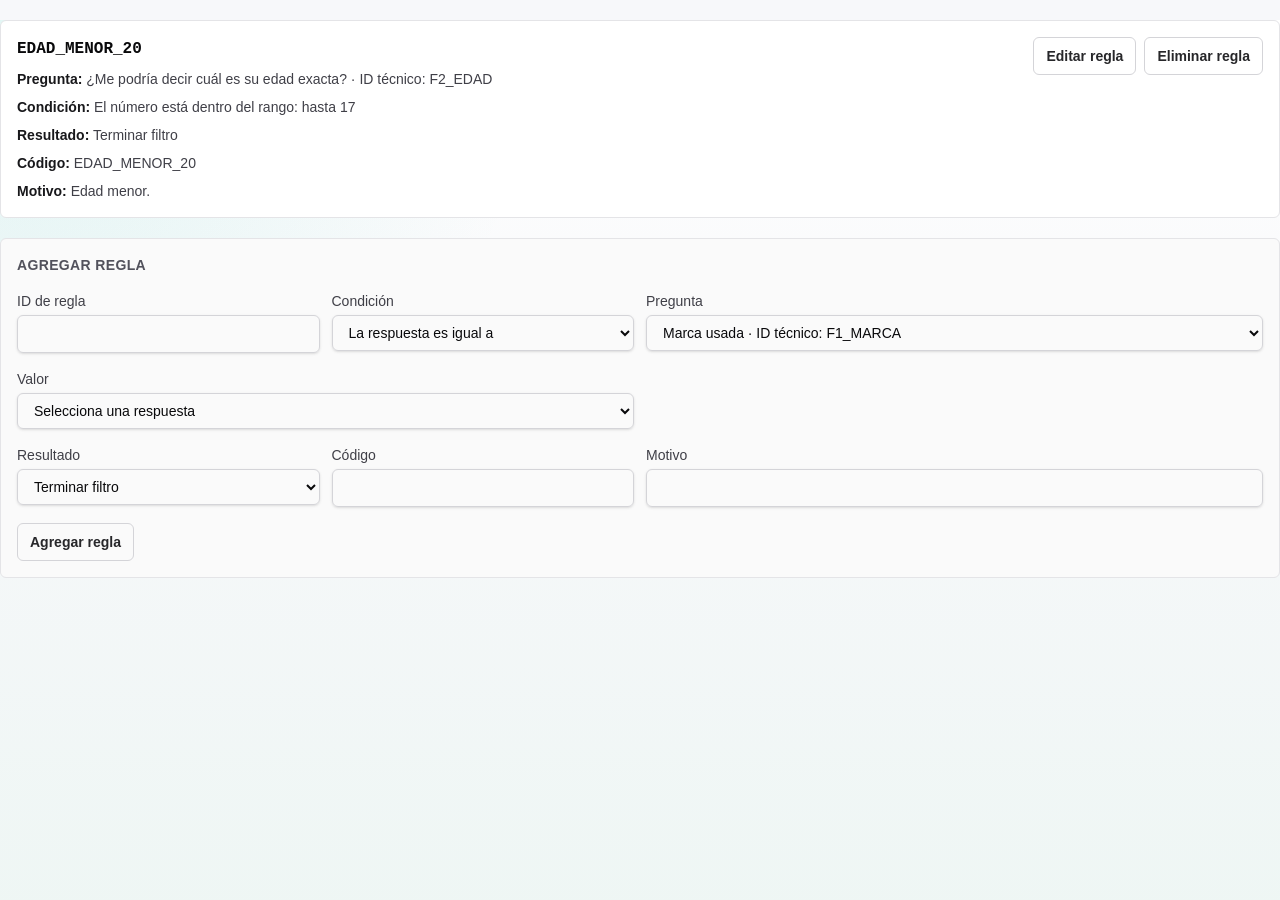
RuleGuidedForm › muestra confirmación al guardar cambios
Click the button "Editar regla".
click(1085, 56)  # box [1033,37,1136,75]
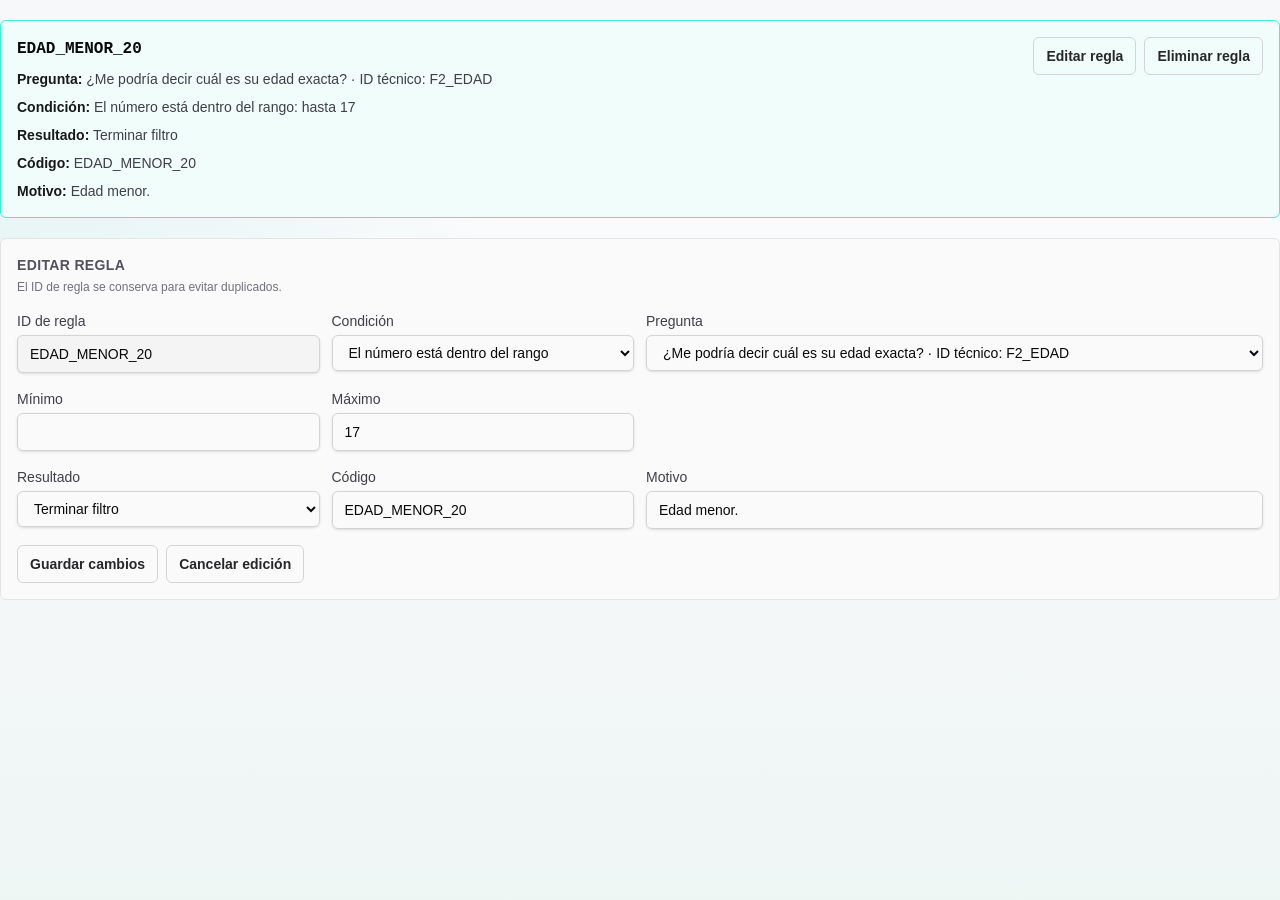
Click the button "Guardar cambios".
click(88, 564)  # box [17,545,158,583]
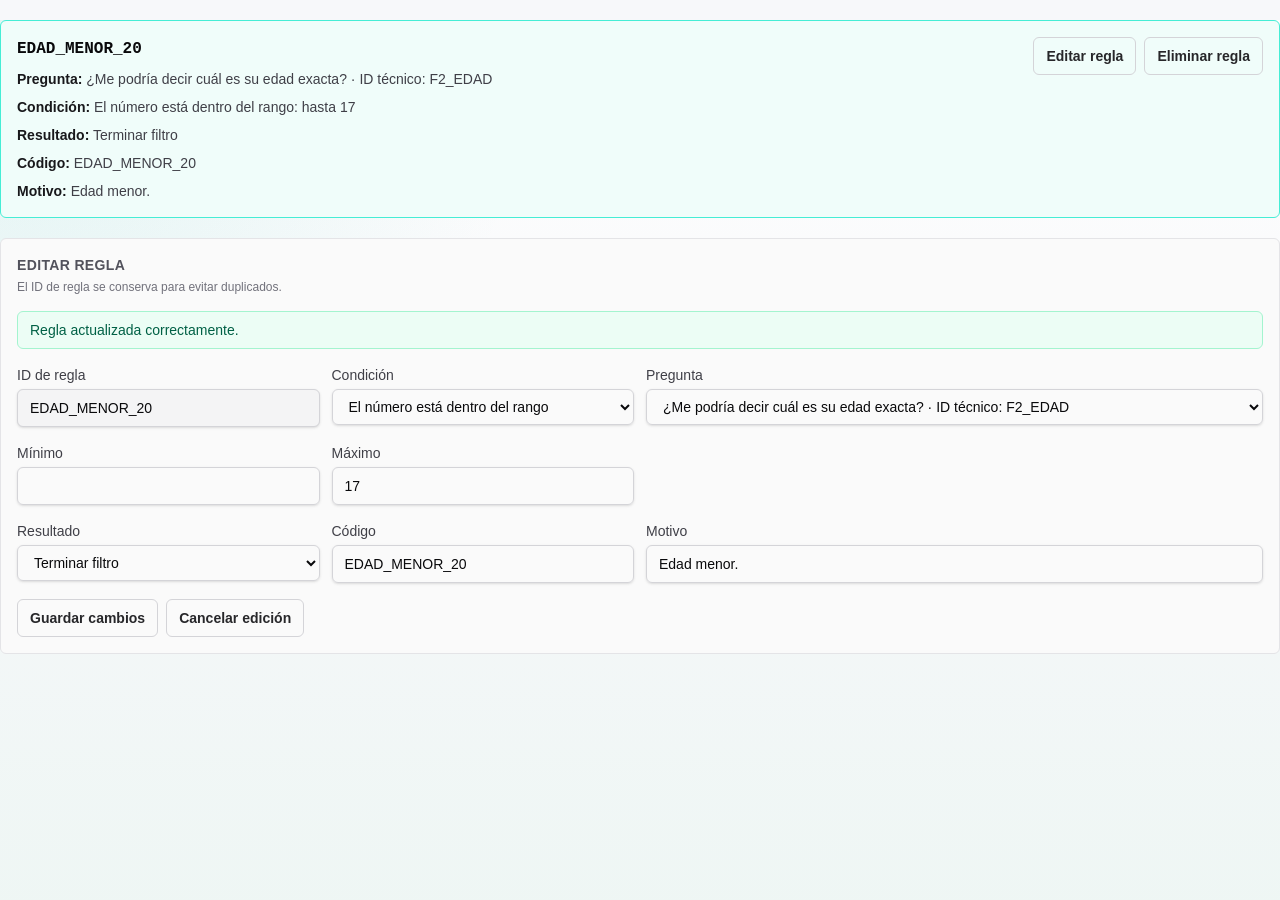
Expected: the message reads "Regla actualizada correctamente.", [30,322,239,338]
